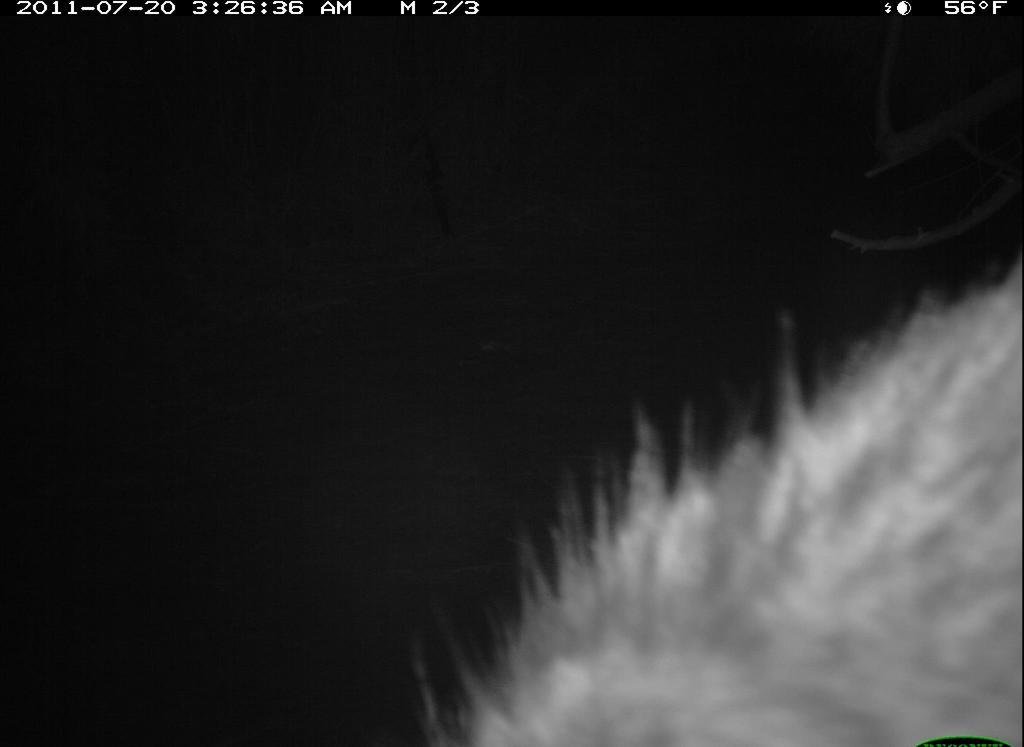raccoon: (408, 250, 1024, 747)
